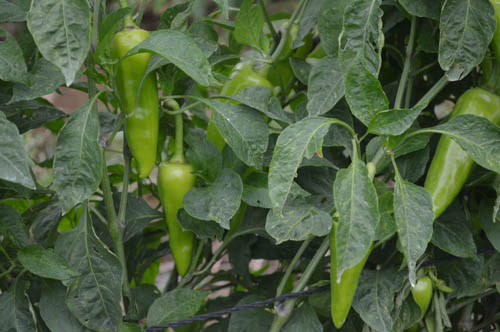ChiliPepper: (424, 90, 494, 218), (112, 30, 157, 179), (156, 165, 197, 272), (331, 212, 369, 324)
